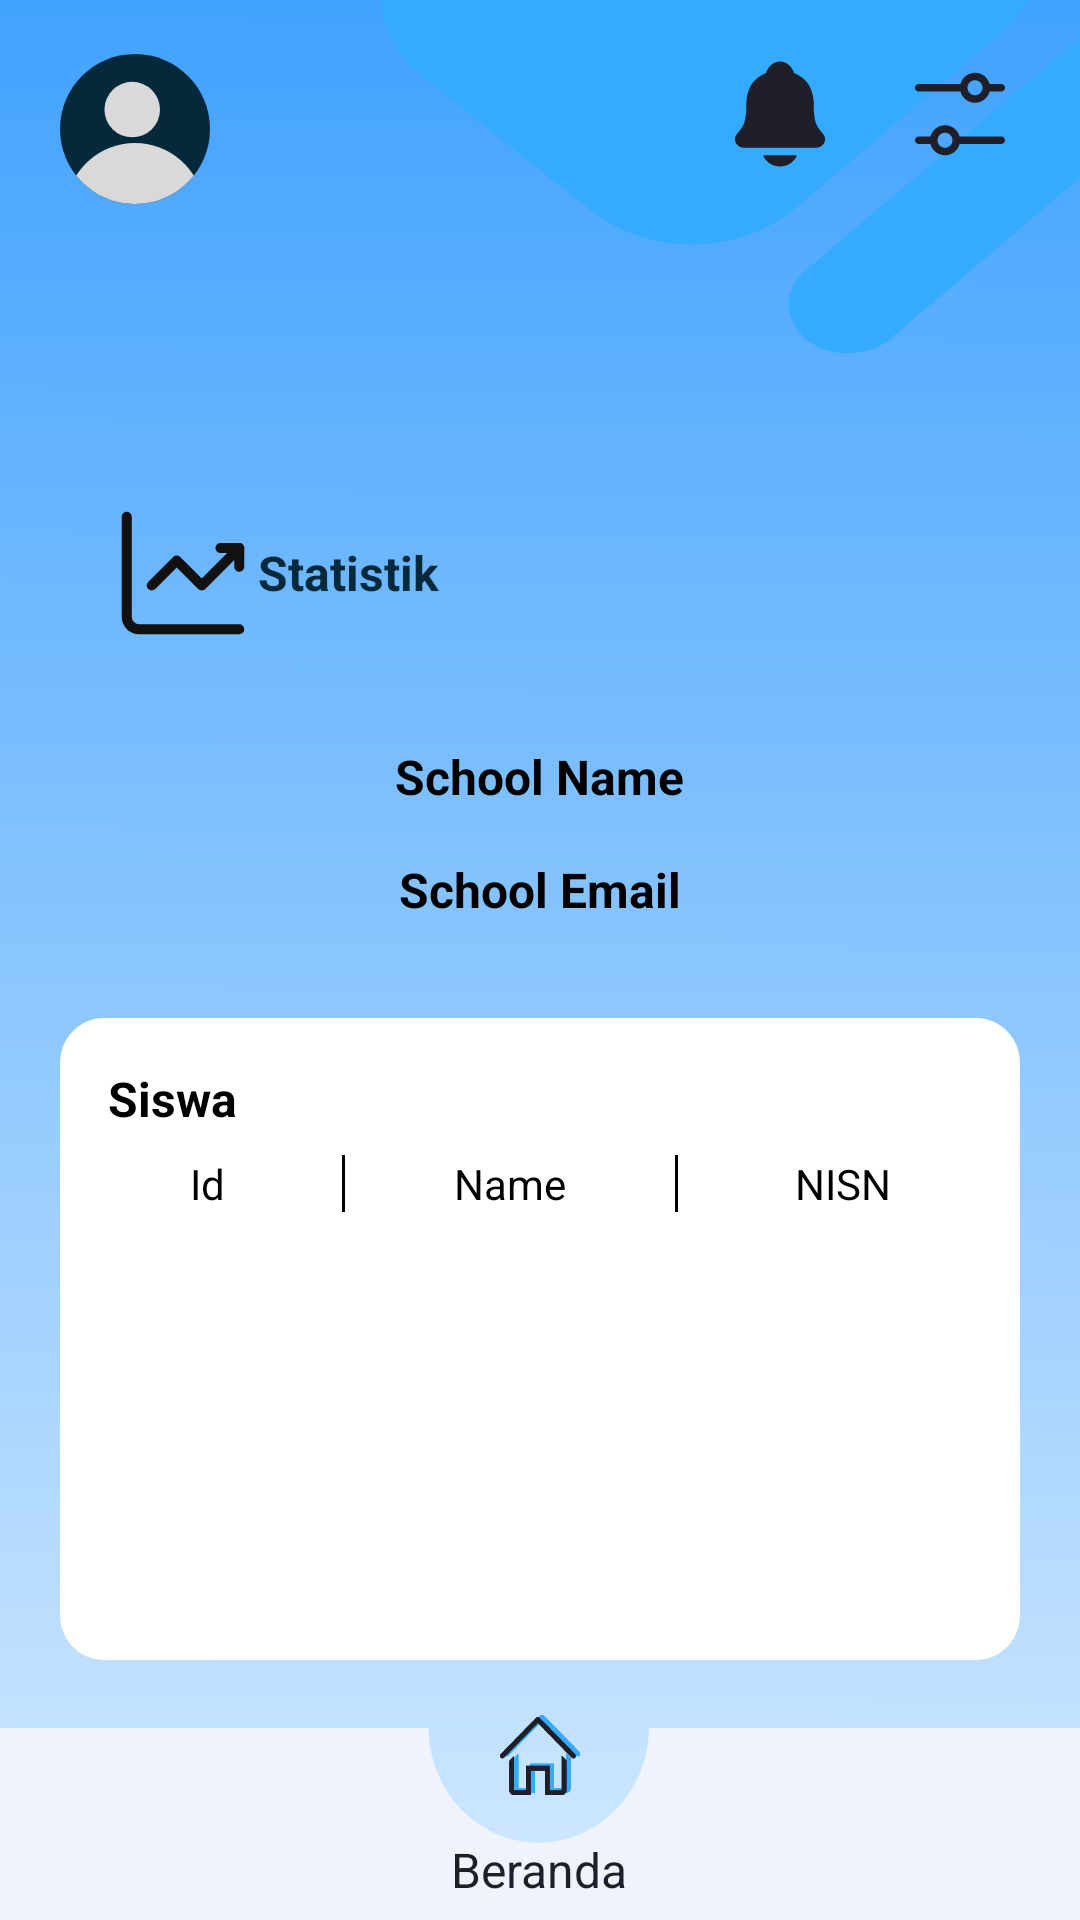

Where to tap for icons on this 1080px×1920px app screen, as (x=x, y=y):
gambar account: (x=135, y=129)
notifications: (x=780, y=114)
settings: (x=960, y=114)
